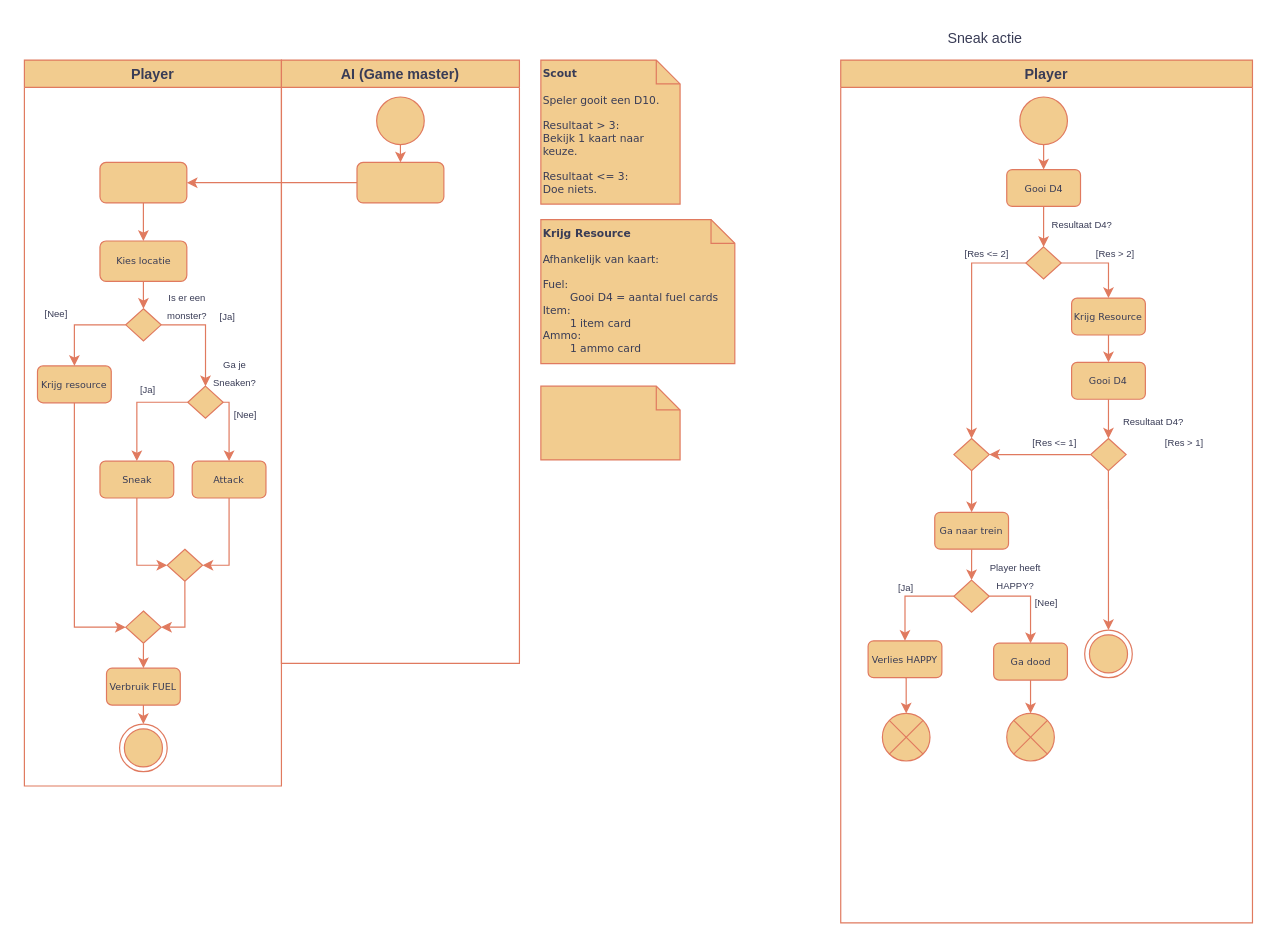
This 1273x944 diagram has some shape labels left out. Each missing label, with the centre of its shape:
Attack Monster dood, Verlies 1 Ammo: [610,422]
Kies monster start: [400,182]
Scouten: [143,182]
